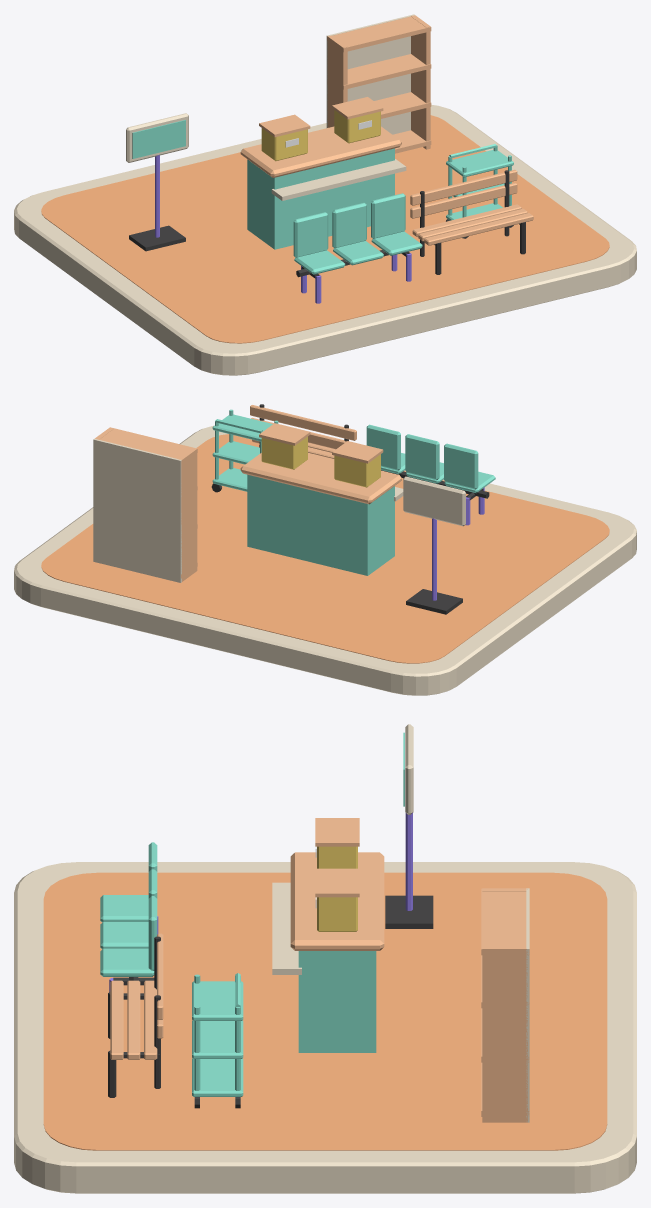
The model's file is room.fbx.
3 renders of one model, top to bottom at view 1: azimuth 30°, elevation 25°; view 2: azimuth 150°, elevation 25°; view 3: azimuth 270°, elevation 25°, orthographic. The views are drawn at different scales.
Parts seen in each view (by area): view 1: COM-02 Floor Surface, COM-01 Rounded Base Direct, Counter body, Countertop, Back.003, Side.001, Visitor shelf, Shelf.003, Shelf.002, Inset, Side, Back (+18 smaller); view 2: COM-02 Floor Surface, COM-01 Rounded Base Direct, Back.003, Counter body, Countertop, Sign panel, Side, Back, Back.001, Shelf.003, Back slat.001, Box (+9 smaller); view 3: COM-02 Floor Surface, COM-01 Rounded Base Direct, Counter body, Side.001, Countertop, Shelf.003, Visitor shelf, Tray.002, Tray, Tray.001, Foot, Seat.002 (+12 smaller).
Boxes of the visible parts, <box> form: COM-02 Floor Surface: <box>41,115,609,343</box>; COM-01 Rounded Base Direct: <box>14,104,636,375</box>; Counter body: <box>247,148,394,249</box>; Countertop: <box>240,126,401,177</box>; Back.003: <box>326,14,414,134</box>; Side.001: <box>411,15,430,149</box>; Visitor shelf: <box>271,159,406,200</box>; Shelf.003: <box>327,16,431,52</box>; Shelf.002: <box>329,54,431,89</box>; Inset: <box>132,120,185,158</box>; Side: <box>327,35,347,127</box>; Back: <box>293,212,328,257</box>; COM-02 Floor Surface: <box>41,434,609,663</box>; COM-01 Rounded Base Direct: <box>14,425,636,695</box>; Back.003: <box>93,438,181,582</box>; Counter body: <box>247,474,394,575</box>; Countertop: <box>240,452,401,504</box>; Sign panel: <box>403,476,465,526</box>; Side: <box>178,447,197,581</box>; Back: <box>444,443,478,489</box>; Back.001: <box>405,434,439,479</box>; Shelf.003: <box>99,427,197,463</box>; Back slat.001: <box>250,405,356,440</box>; Box: <box>334,454,380,487</box>; COM-02 Floor Surface: <box>43,872,607,1150</box>; COM-01 Rounded Base Direct: <box>14,862,636,1193</box>; Counter body: <box>298,951,376,1052</box>; Side.001: <box>482,946,527,1122</box>; Countertop: <box>290,852,384,950</box>; Shelf.003: <box>481,888,529,955</box>; Visitor shelf: <box>272,882,301,974</box>; Tray.002: <box>192,981,243,1020</box>; Tray: <box>192,1058,243,1096</box>; Tray.001: <box>192,1020,243,1058</box>; Foot: <box>385,895,433,928</box>; Seat.002: <box>100,948,154,976</box>.
Size of the model in its own units: 600 by 190 by 520.
